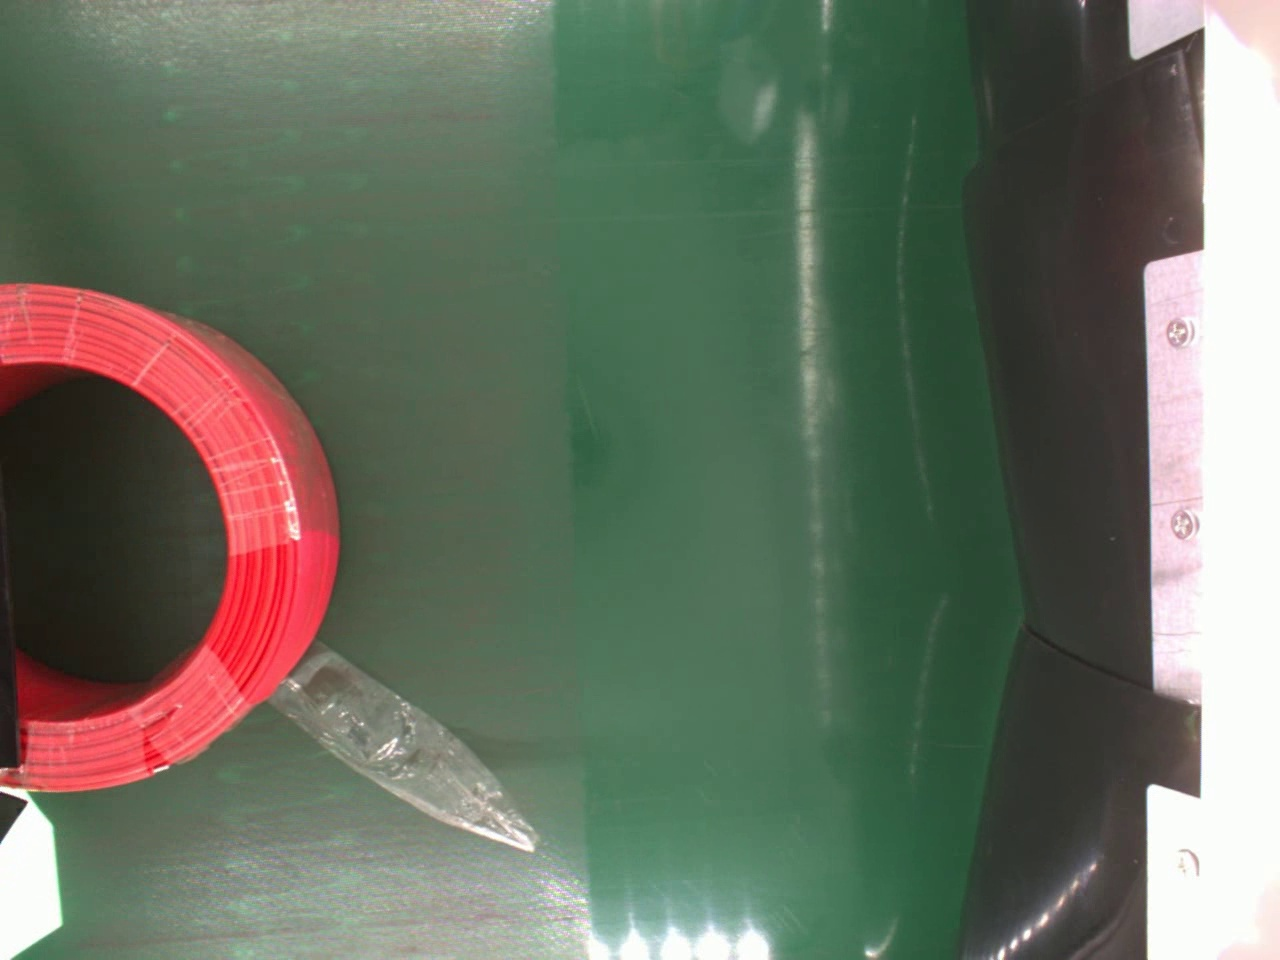red: (0, 278, 341, 788)
